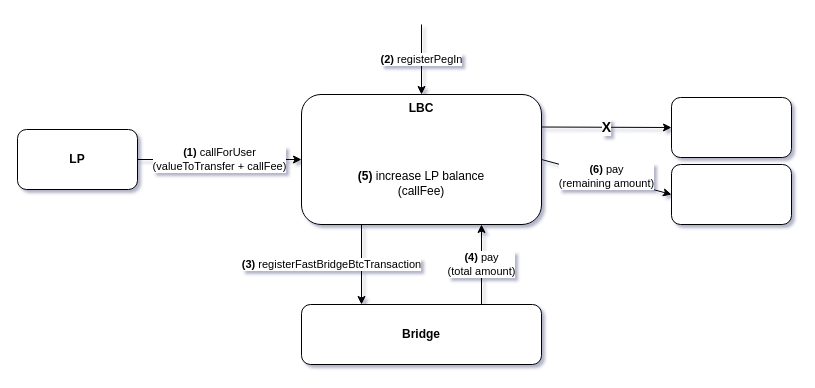
The diagram is 815 pixels wide and 388 high, and some of its shapes have lost their labels. The shapes that lost their labels are listed below. From the top down, each one's centre as x and y in pixels, then its label:
At point 731,127: "RSK Account".
At point 731,194: "Refund RSK Account".
